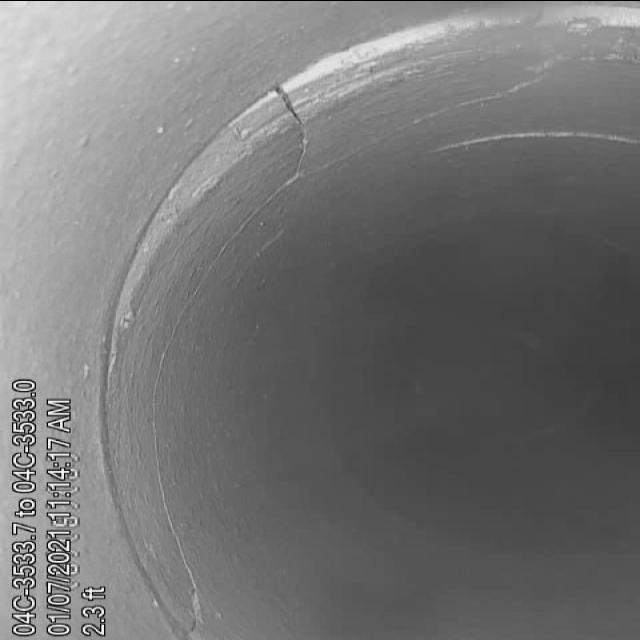Crack: (113, 146, 285, 490)
